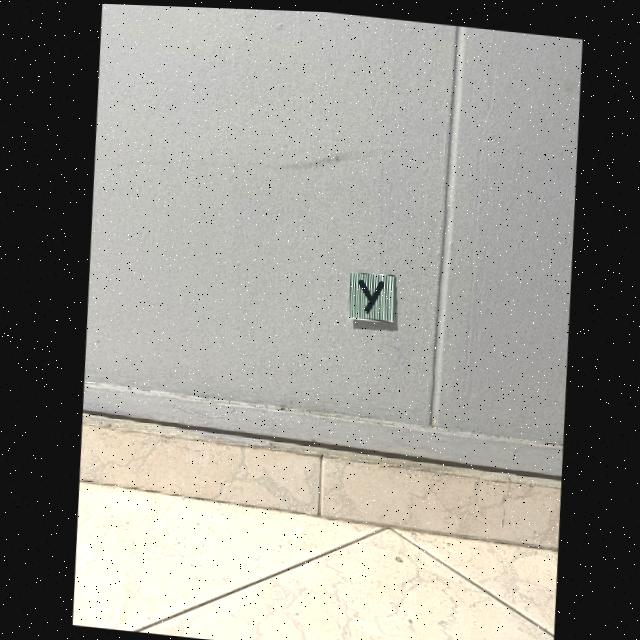Y: (357, 277, 382, 309)
